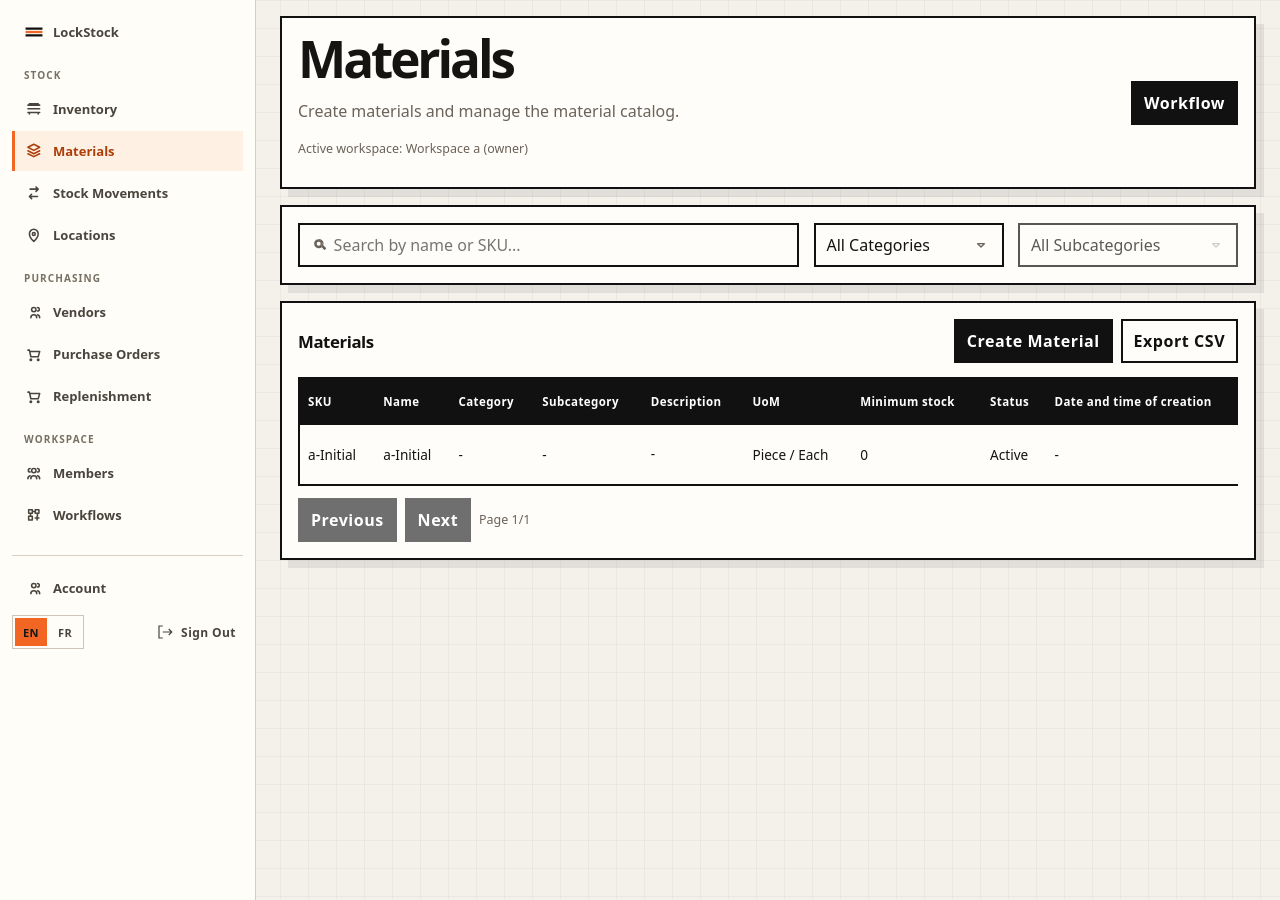
Test: shows loading and read errors, retains rows as stale, and retries the current search without writes
This screenshot has width=1280, height=900.
In the field with placeholder "Search by name or SKU...": (549, 245) [298,223,799,267], type "Old"
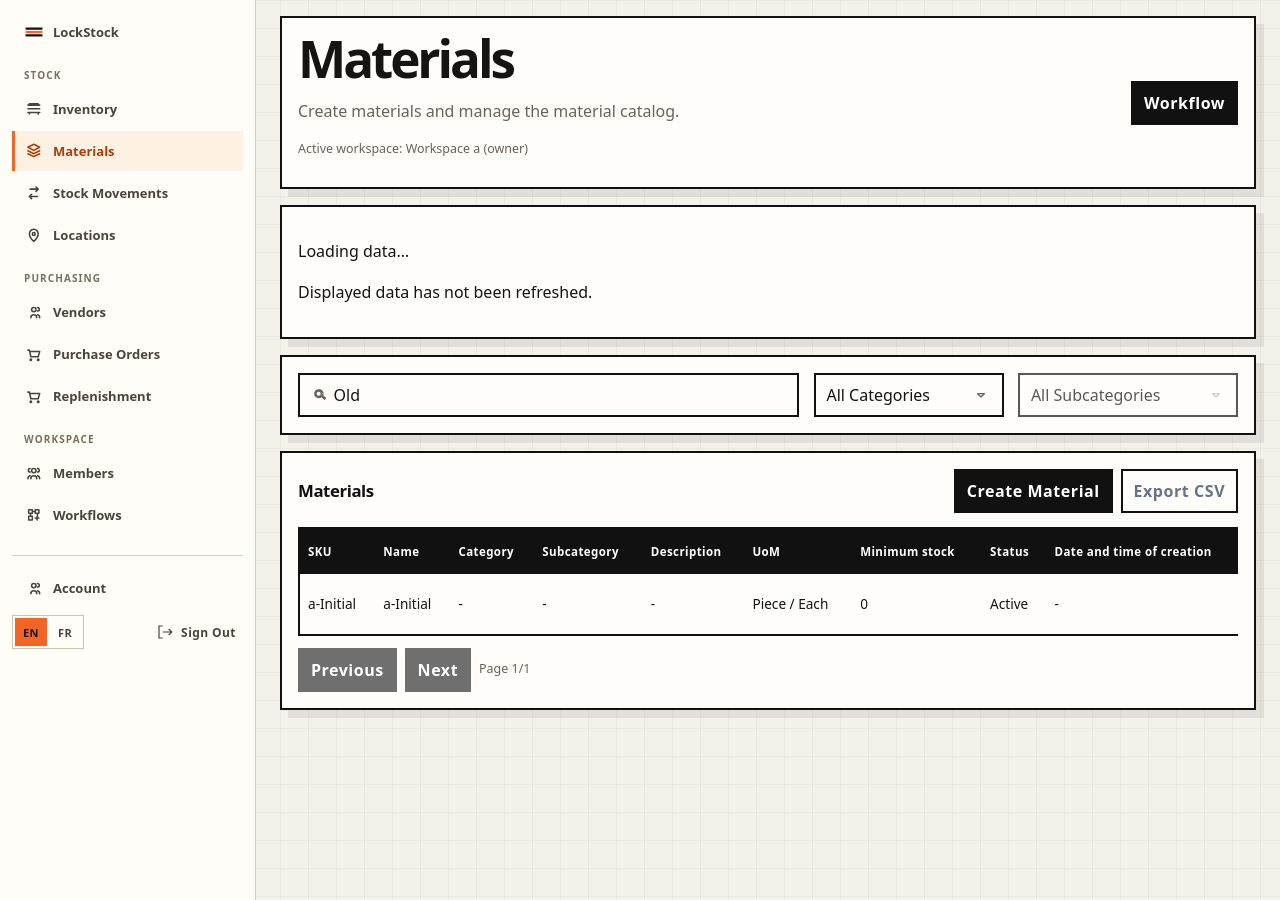
Check: the message shows "Loading data", box [298,240,409,262]
Replace the text in the field with placeholder "Search by name or SKU..." with "Failed": (549, 395) [298,373,799,417]
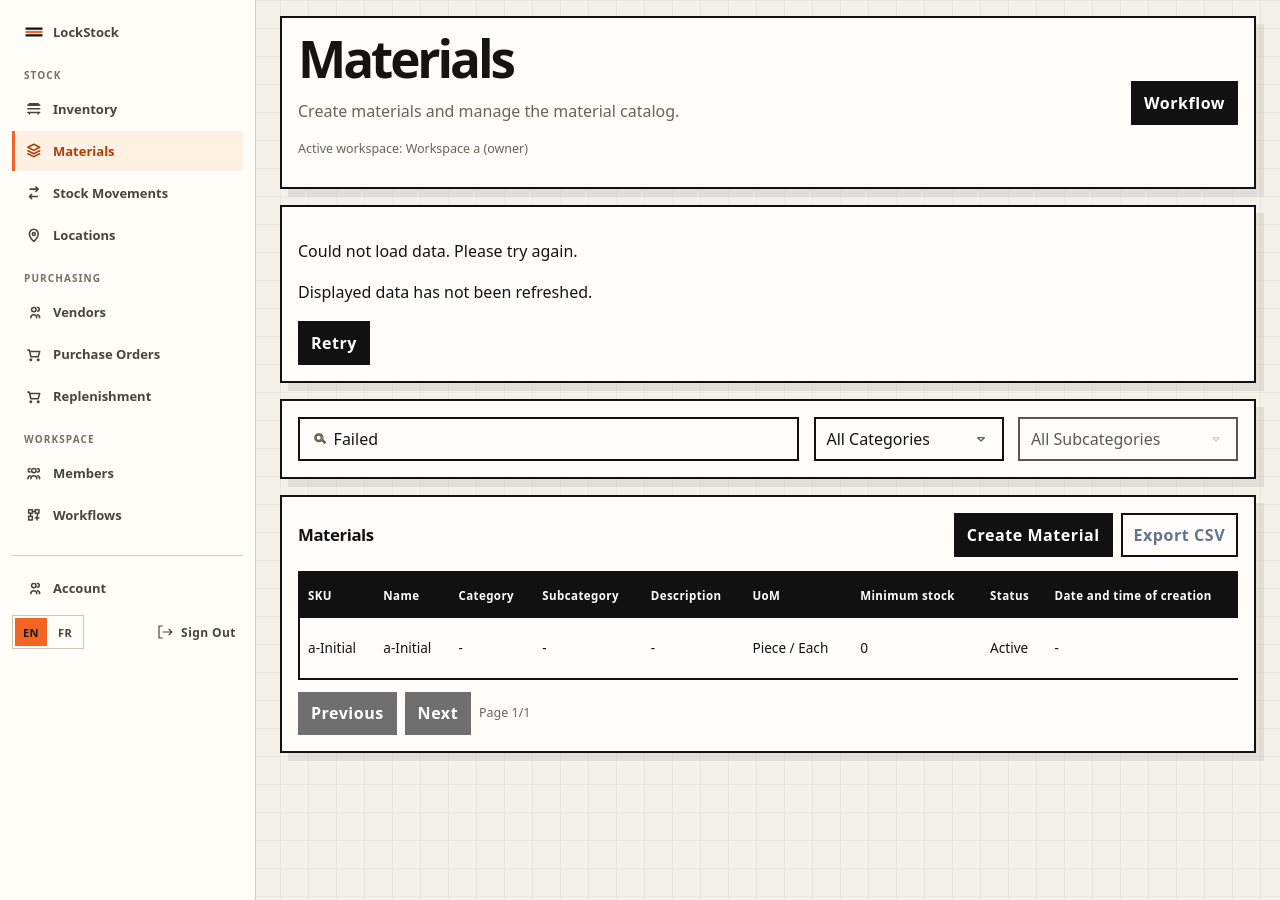
Check: the 1st text "a-Initial" is shown, box [299,618,375,678]
Check: the message shows "Displayed data has not been refreshed", box [298,281,592,303]
Check: the message shows "Could not load data", box [298,240,578,262]
Click the button "Retry": (334, 343) [298,321,370,365]
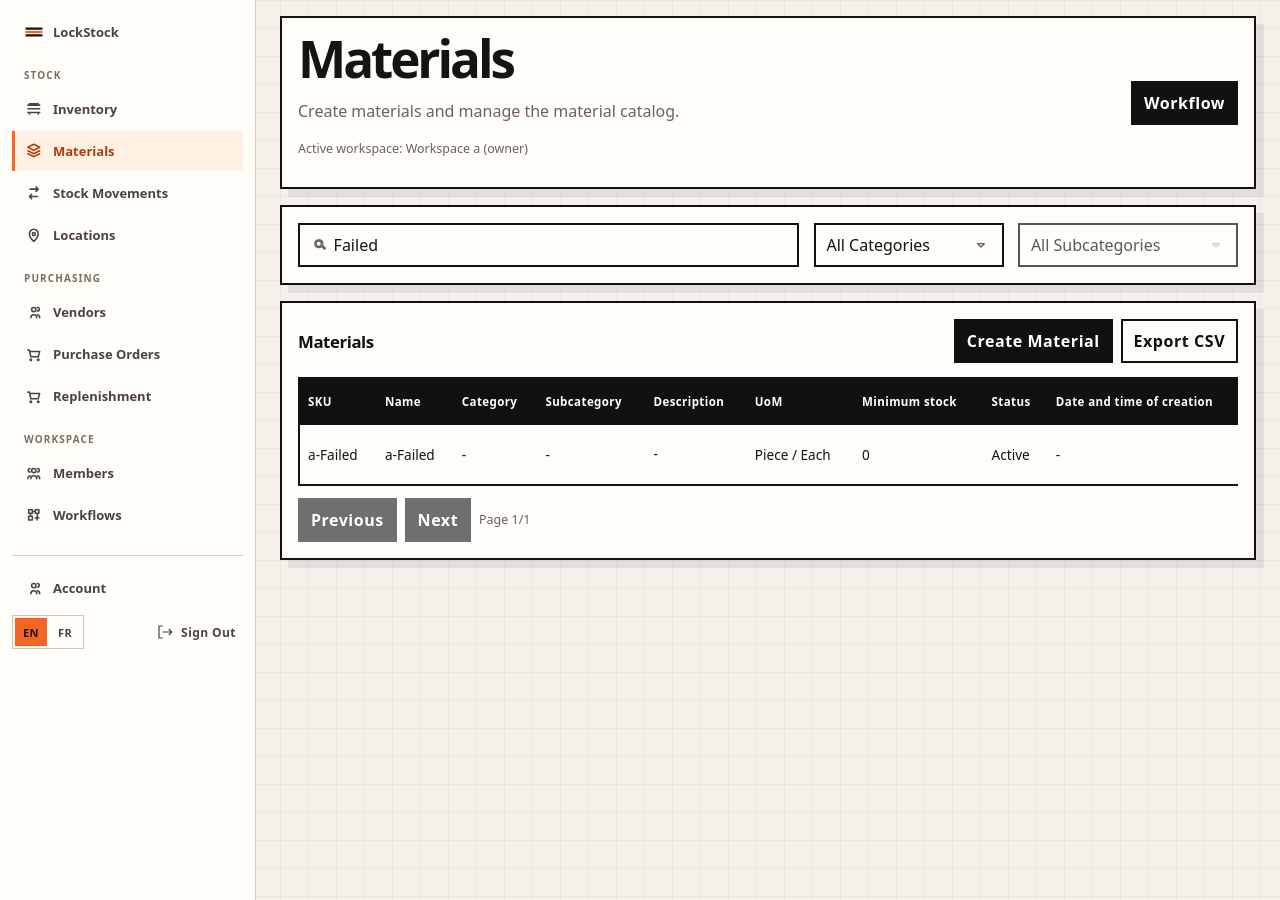
Check: the message is gone
